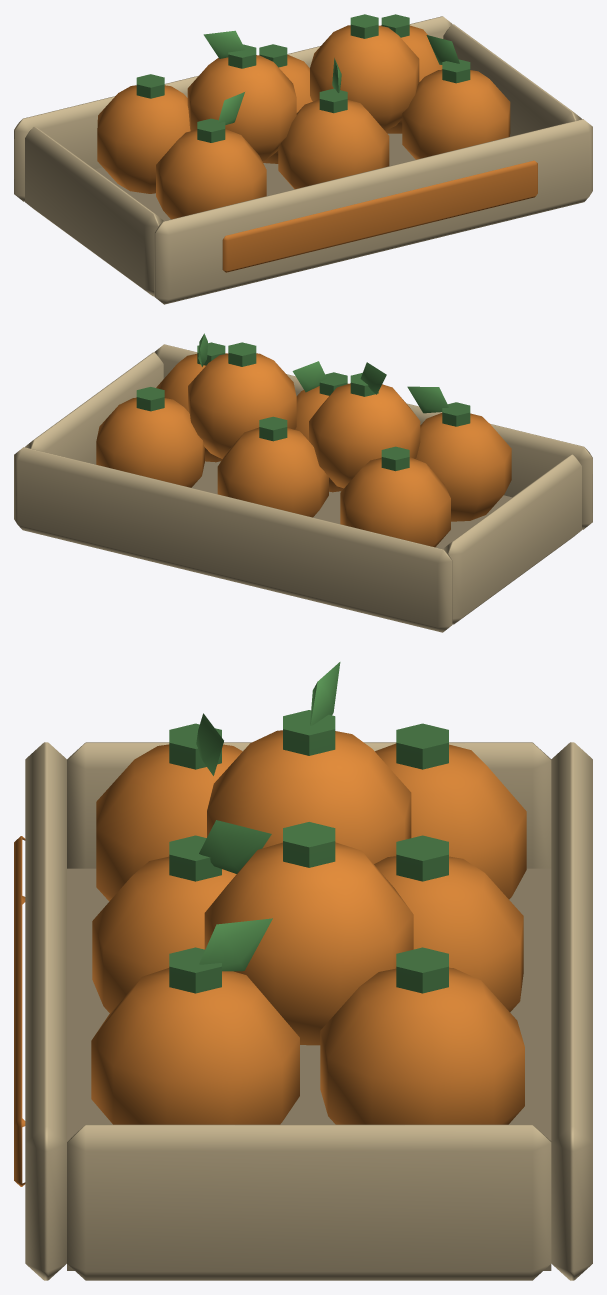
File: ProduceTray_Oranges_01.glb
3 renders of one model, top to bottom at view 1: azimuth 30°, elevation 25°; view 2: azimuth 150°, elevation 25°; view 3: azimuth 270°, elevation 25°, orthographic. The views are drawn at different scales.
Visible parts, largest first — view 1: SM_ProduceTray_Oranges_01; view 2: SM_ProduceTray_Oranges_01; view 3: SM_ProduceTray_Oranges_01.
Part boxes in pixels (box(x1,y1,x2,y2)): SM_ProduceTray_Oranges_01: box(14, 14, 592, 304); SM_ProduceTray_Oranges_01: box(14, 333, 592, 632); SM_ProduceTray_Oranges_01: box(14, 662, 592, 1280).
Size of the model in its own units: 0.5 by 0.2024 by 0.306.
Materials: 1 (1 with a texture image).
